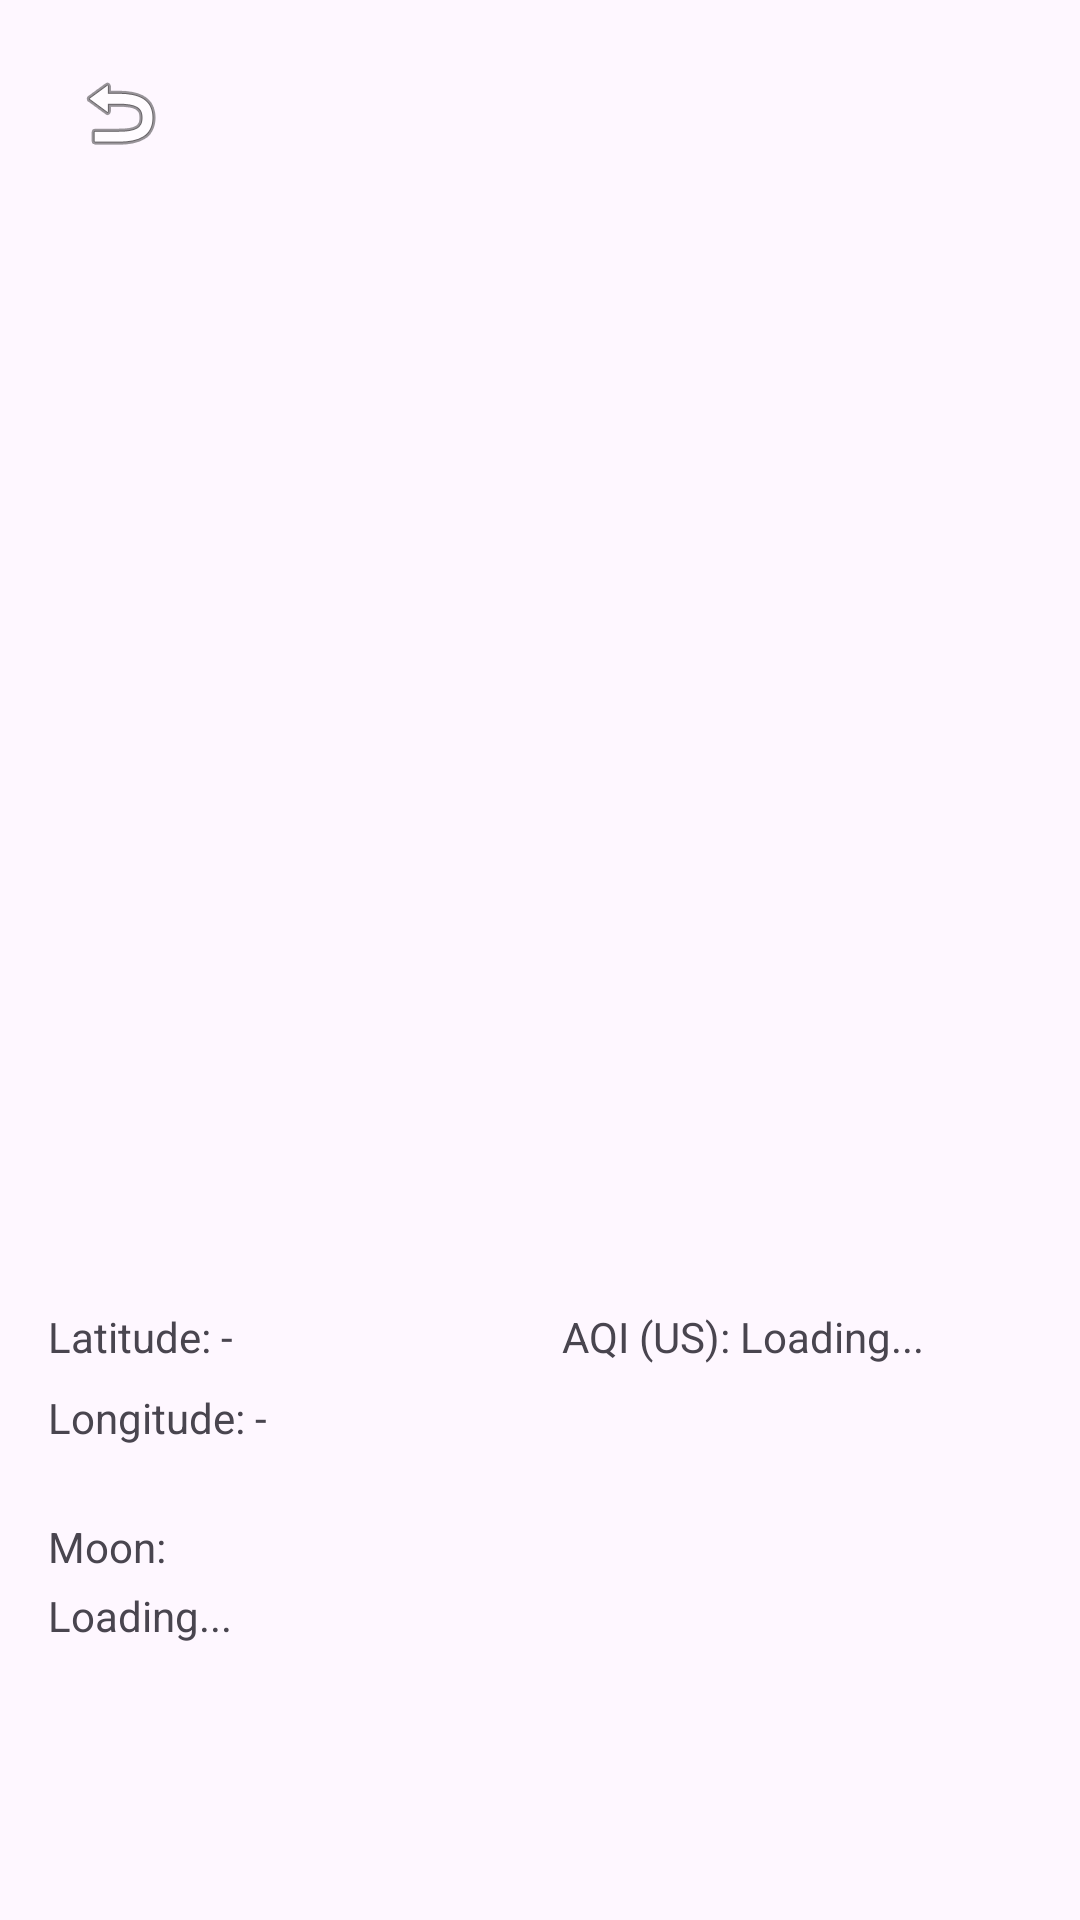

Locate icon controls on the screen. Image size 1080w x 1920h, boxes as (x1, y1, x2, y2).
ย้อนกลับ: (87, 82, 156, 145)
